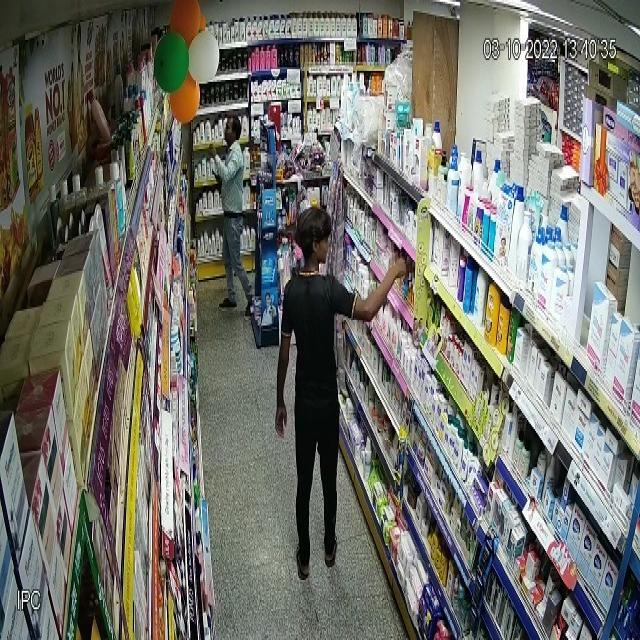normal: (249, 220, 378, 591)
